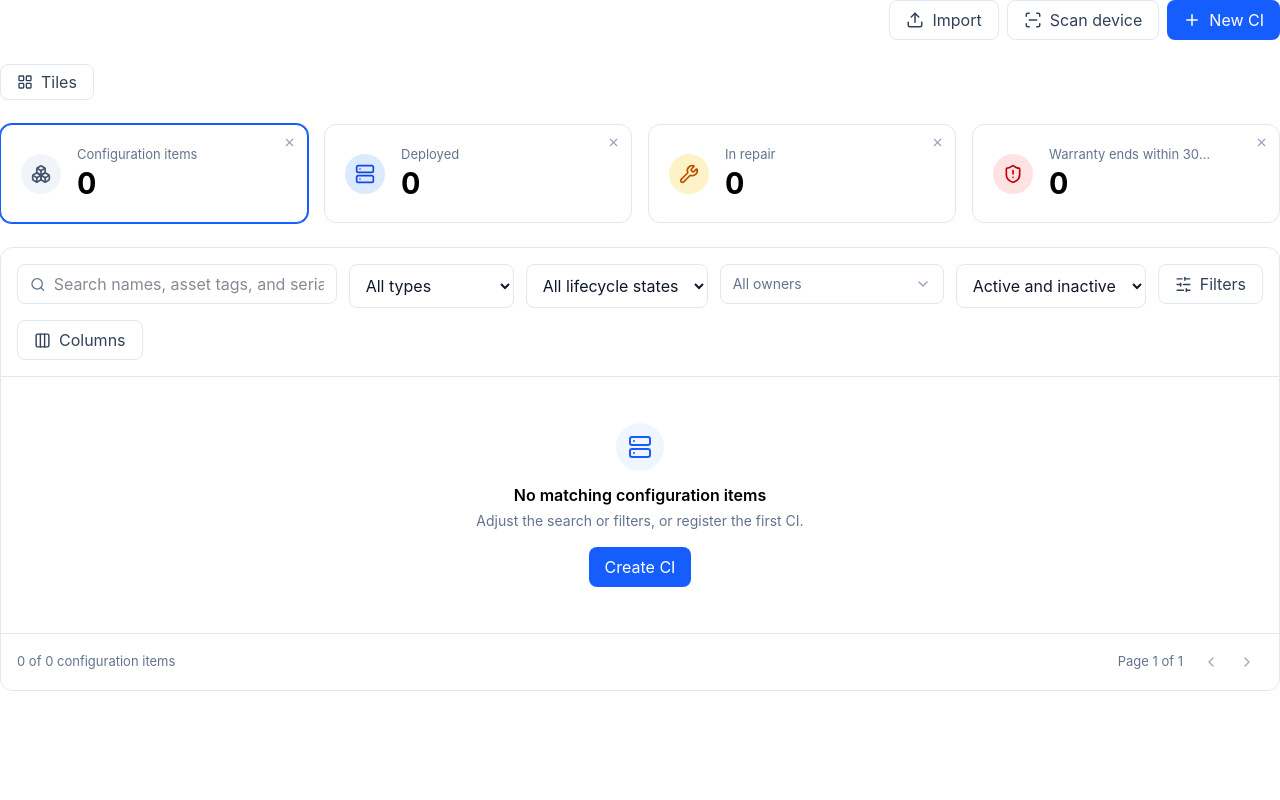
Test case: CiListPage › renders a custom field the admin added at runtime
The width and height of the screenshot is (1280, 800).
What coordinates should you click on to do the following:
click the button "New CI"
I would click on:
 (1224, 20)
Its box is [1167,0,1279,40].
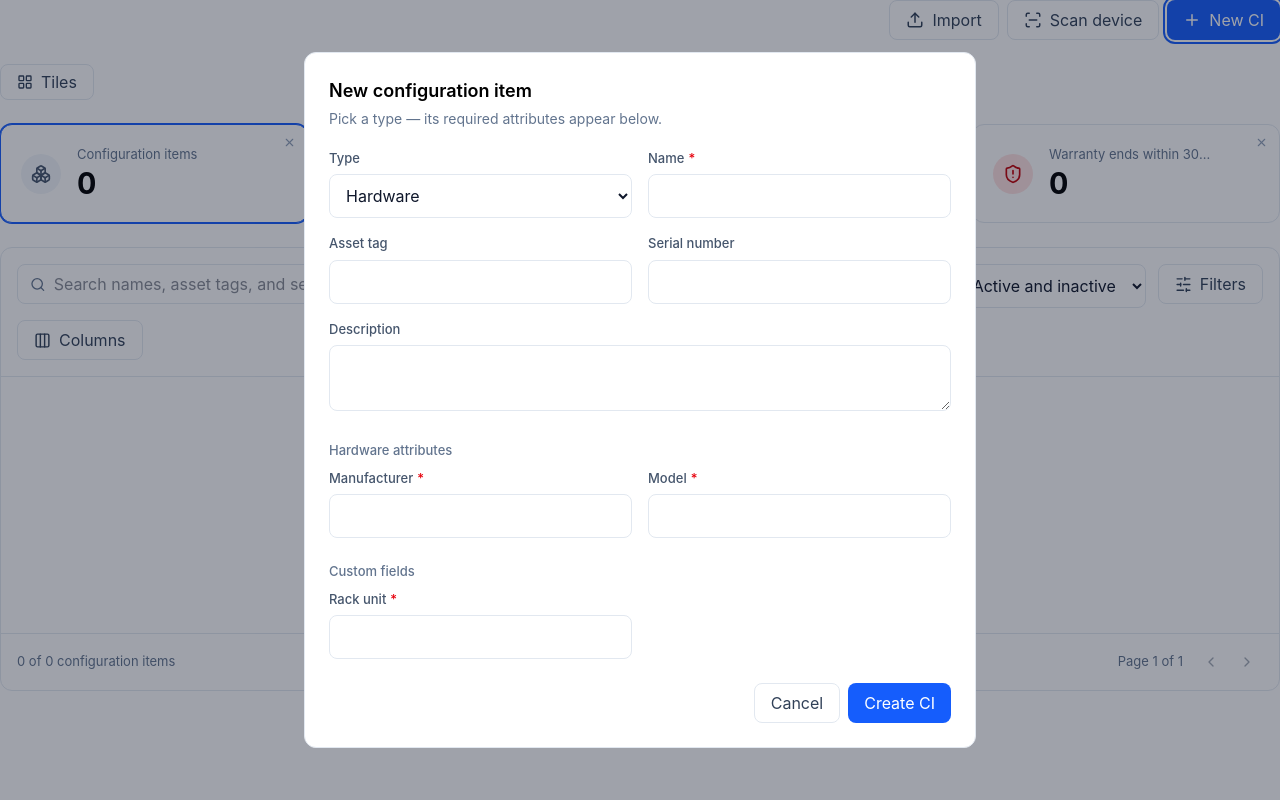
Result: the heading "Custom fields" is shown at [329,563,415,579]
Result: the field labelled "Rack unit*" is shown at [329,615,632,659]
